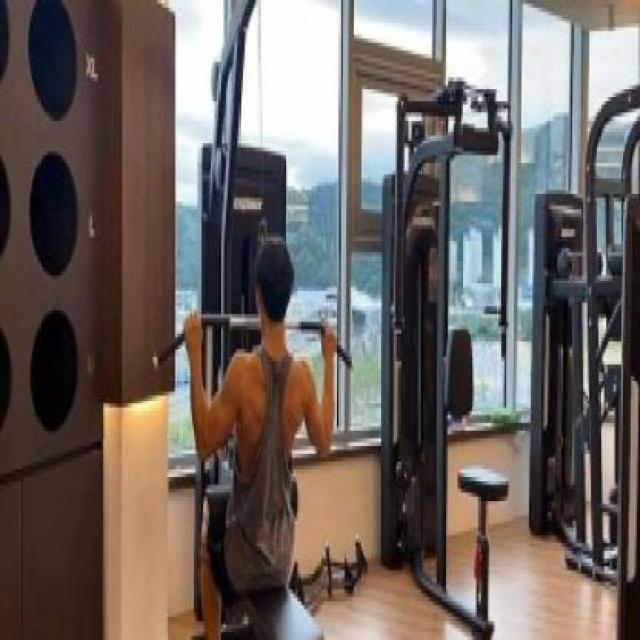Lat Pull Down: (140, 1, 365, 638)
